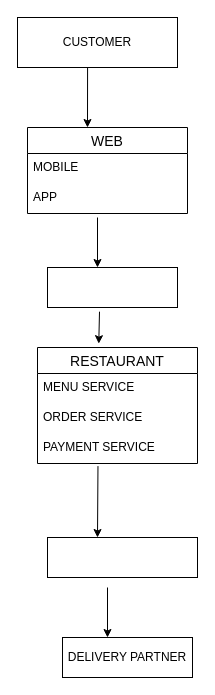
Some shapes in this 215 by 695 pixel diagram are drawn without their labels. The shapes that lost their labels are listed below. From the top down, each one's box as (x1, y1, x2, y2) in pixels, then its label:
(46, 266, 178, 308): BACKEND/API
(46, 536, 198, 578): DATA BASE
